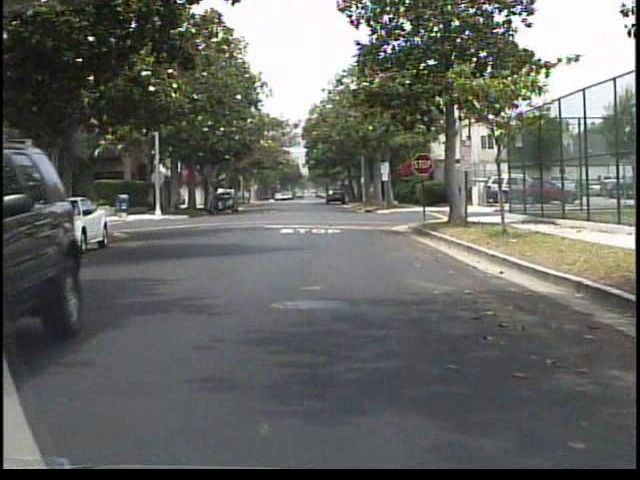person: (205, 177, 229, 218)
